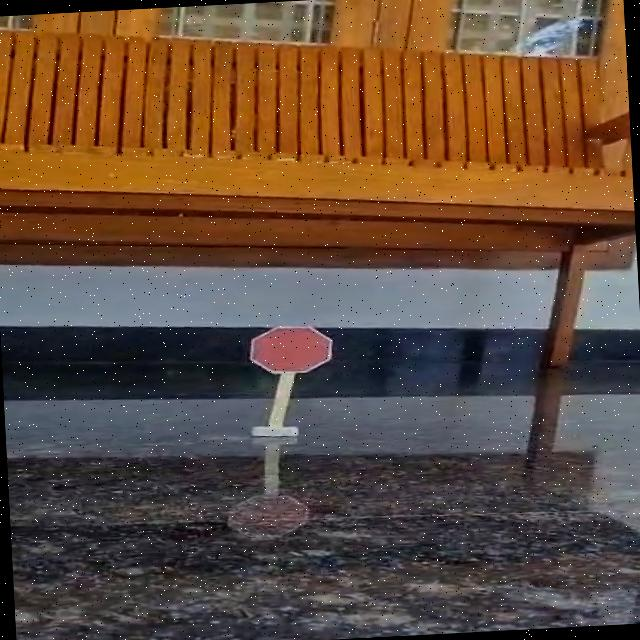Stop: (230, 314, 354, 386)
